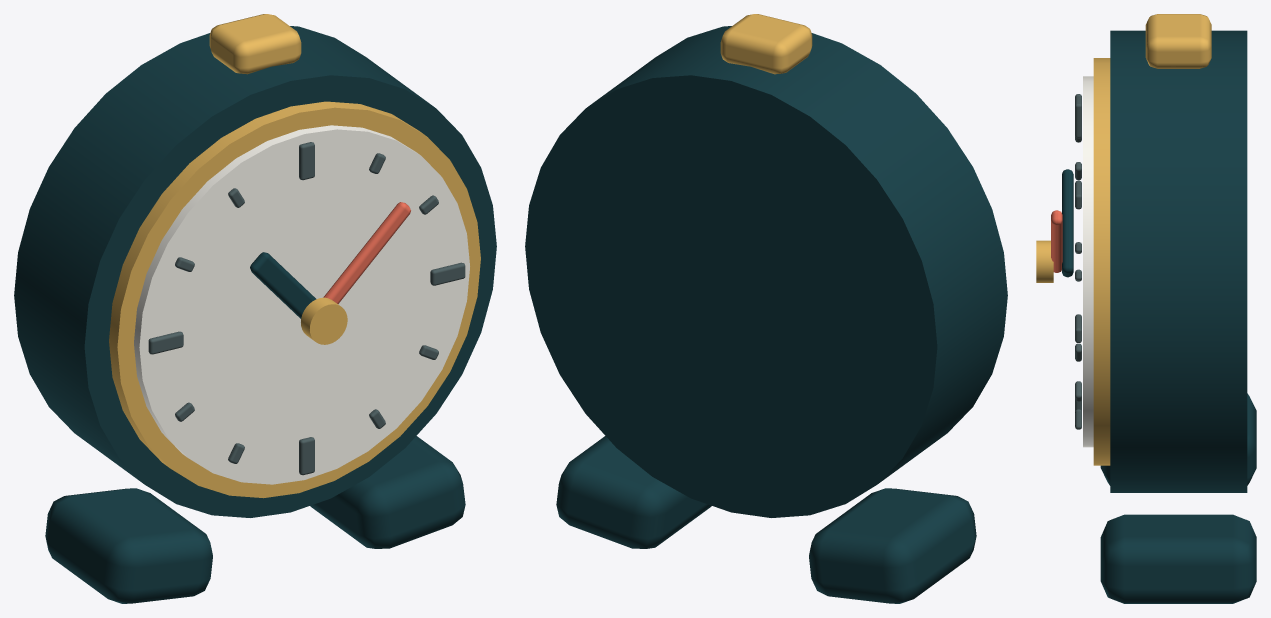
File: review-clock.glb
3 views of the same model, side by side, from view 1: azimuth 30°, elevation 25°; view 2: azimuth 150°, elevation 25°; view 3: azimuth 270°, elevation 25° (orthographic). The views are drawn at different scales.
Visible parts, largest first — view 1: clock-face, clock-case, clock-brass-rim, left-foot, right-foot, winding-crown, minute-pointer, hour-pointer, hand-pin; view 2: clock-case, left-foot, right-foot, winding-crown; view 3: clock-case, right-foot, clock-brass-rim, clock-face, winding-crown, hour-pointer, left-foot, hand-pin, minute-pointer.
Part boxes in pixels (x1,y1,x2,y2): clock-face: [134, 125, 469, 484]; clock-case: [14, 26, 496, 517]; clock-brass-rim: [109, 101, 480, 498]; left-foot: [45, 488, 212, 603]; right-foot: [310, 436, 465, 548]; winding-crown: [209, 14, 301, 74]; minute-pointer: [323, 202, 410, 303]; hour-pointer: [250, 252, 316, 318]; hand-pin: [301, 297, 347, 344]; clock-case: [525, 26, 1007, 517]; left-foot: [809, 488, 976, 603]; right-foot: [556, 436, 711, 548]; winding-crown: [720, 14, 812, 74]; clock-case: [1110, 30, 1247, 492]; right-foot: [1100, 514, 1256, 603]; clock-brass-rim: [1093, 58, 1110, 465]; clock-face: [1083, 76, 1093, 447]; winding-crown: [1145, 14, 1211, 68]; hour-pointer: [1062, 169, 1073, 277]; left-foot: [1100, 393, 1256, 485]; hand-pin: [1036, 240, 1053, 282]; minute-pointer: [1051, 210, 1062, 272].
Size of the model in its own units: 0.98 by 1.19 by 0.4665.
